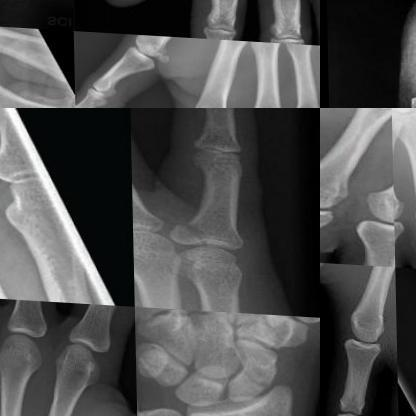fracture: (157, 208, 223, 247), (135, 394, 153, 415)
